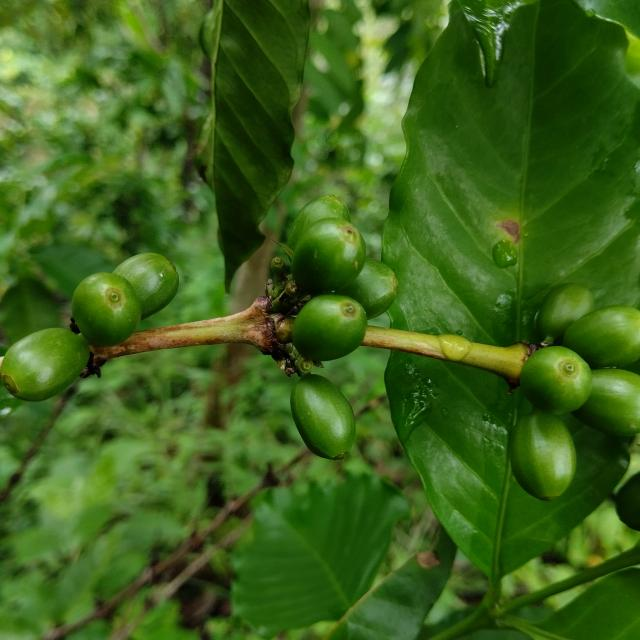green: (0, 328, 89, 402), (510, 410, 578, 502), (291, 218, 366, 295), (291, 374, 356, 460), (71, 272, 141, 347), (292, 294, 367, 361), (520, 346, 593, 414), (564, 305, 640, 369), (574, 369, 640, 436), (113, 253, 178, 319), (338, 259, 399, 319), (288, 194, 351, 249), (537, 283, 595, 338)
